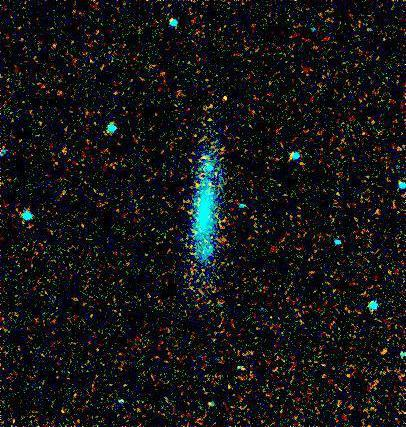star: (209, 83, 239, 113)
